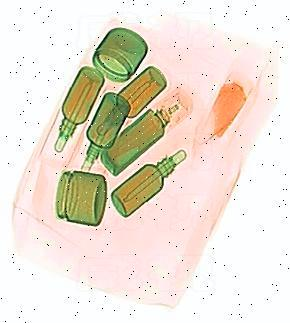suspiciousliquid2: (50, 29, 189, 227)
